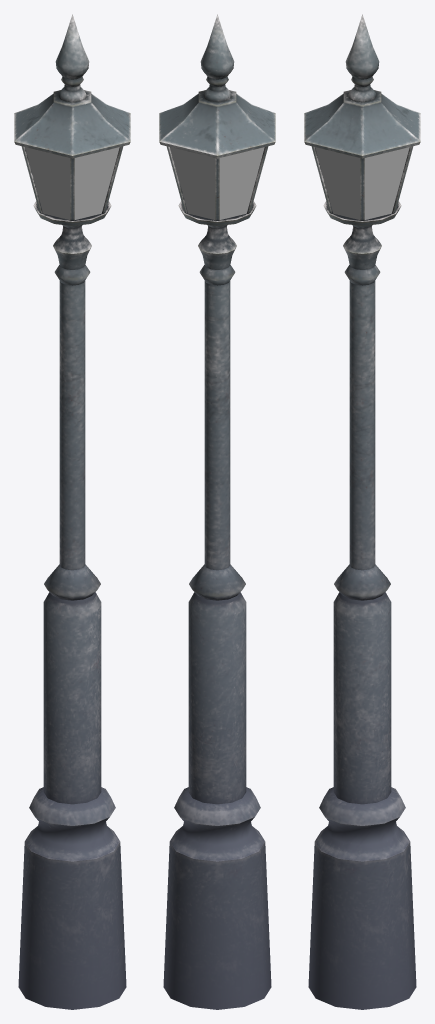
The model's file is sb_obj_outdoor044_StreetLamp.fbx.
3 renders of one model, left to right at view 1: azimuth 90°, elevation 25°; view 2: azimuth 150°, elevation 25°; view 3: azimuth 270°, elevation 25°, orthographic.
Parts seen in each view (by area): view 1: sb_obj_outdoor044_StreetLamp; view 2: sb_obj_outdoor044_StreetLamp; view 3: sb_obj_outdoor044_StreetLamp.
Part boxes in pixels (left/top/right/bottom): sb_obj_outdoor044_StreetLamp: left=14, top=14, right=130, bottom=1009; sb_obj_outdoor044_StreetLamp: left=159, top=14, right=275, bottom=1009; sb_obj_outdoor044_StreetLamp: left=304, top=14, right=420, bottom=1009.
Bounding box in the file's own units: 0.3942 × 3.14 × 0.3414.
